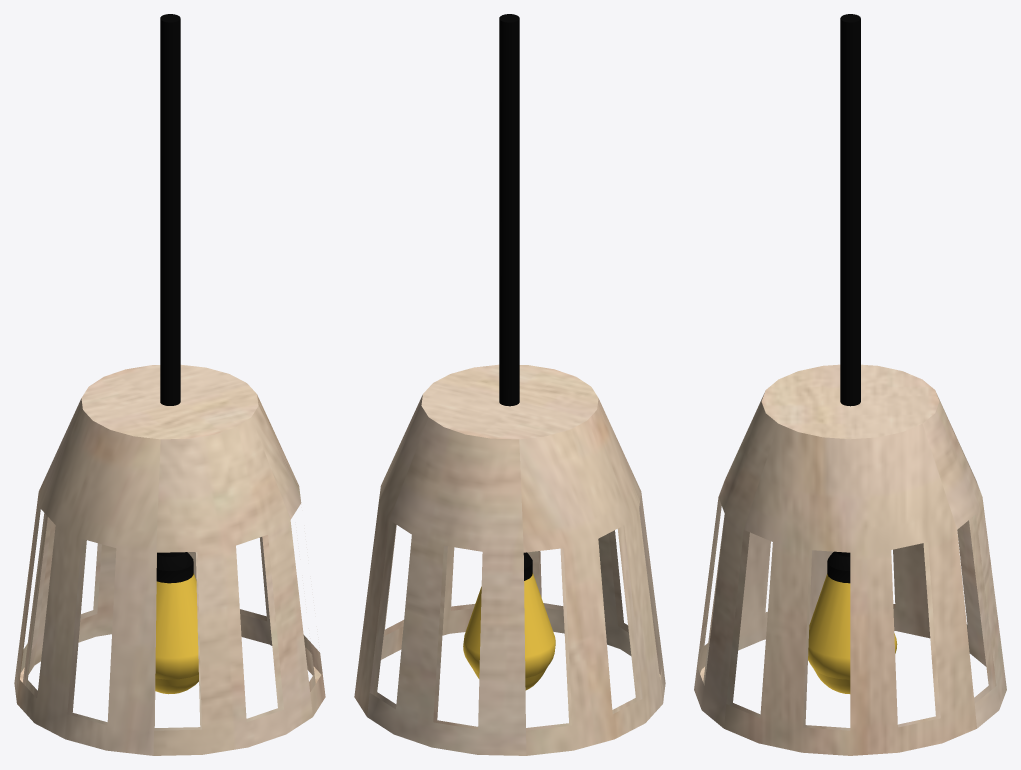
Rendered from lightbulb.fbx.
The picture shows the model from 3 angles, left to right: view 1: azimuth 30°, elevation 25°; view 2: azimuth 150°, elevation 25°; view 3: azimuth 270°, elevation 25°; orthographic projection.
Parts seen in each view (by area): view 1: pCylinder3, polySurface2; view 2: pCylinder3, polySurface2; view 3: pCylinder3, polySurface2.
Boxes of the visible parts, x1,y1,x2,y2 form: pCylinder3: [14, 364, 325, 755]; polySurface2: [155, 14, 198, 694]; pCylinder3: [354, 364, 665, 755]; polySurface2: [463, 14, 555, 690]; pCylinder3: [694, 364, 1006, 755]; polySurface2: [808, 14, 897, 693].
Bounding box in the file's own units: 7.68 × 18.22 × 7.68.
